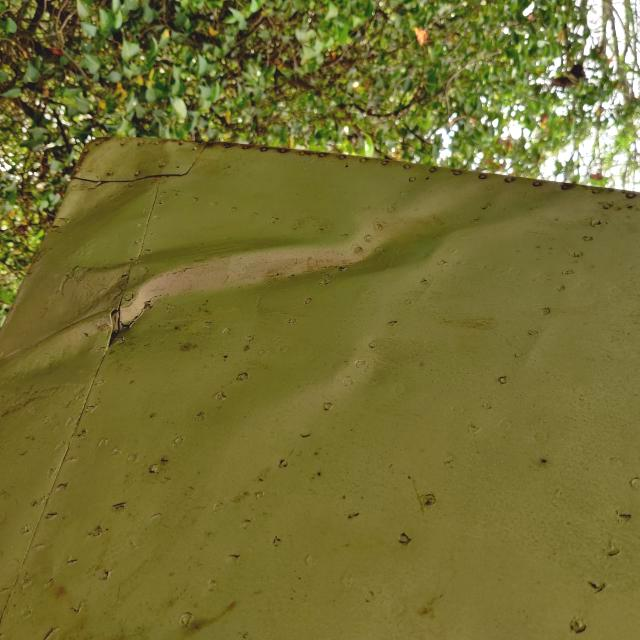crack: (113, 291, 165, 333)
dent: (0, 119, 591, 407), (51, 129, 175, 235)
